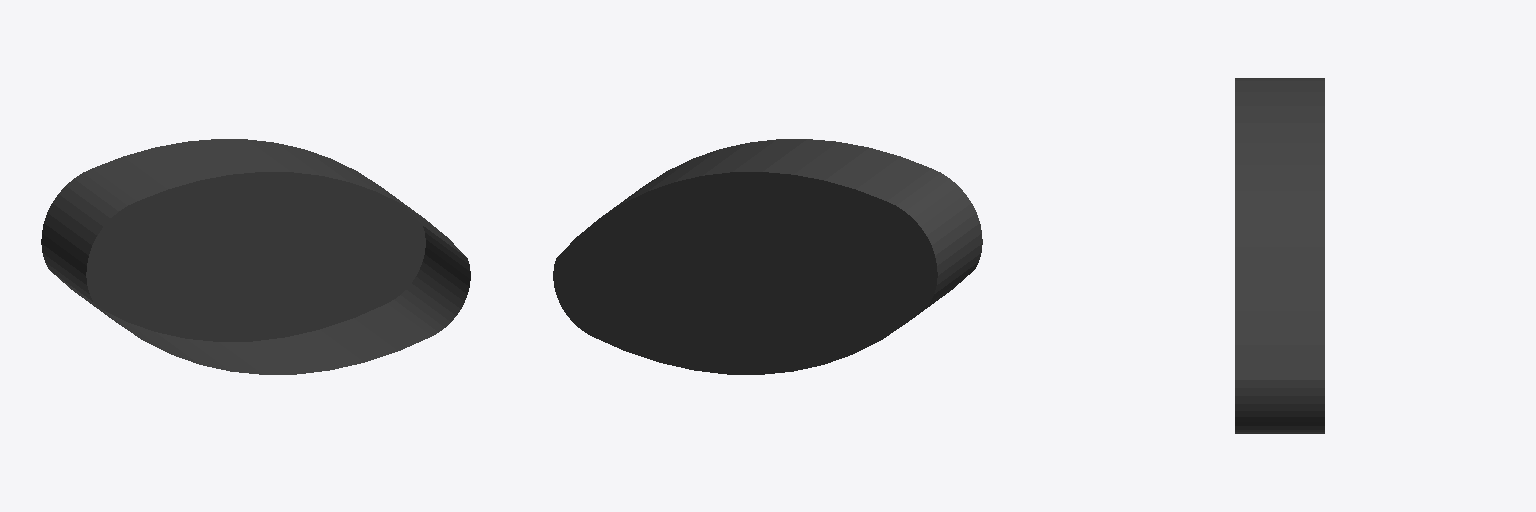
File: original-25.obj
The picture shows the model from 3 angles: view 1: azimuth 30°, elevation 25°; view 2: azimuth 150°, elevation 25°; view 3: azimuth 270°, elevation 25°; orthographic projection.
Visible parts, largest first — view 1: #ID155; view 2: #ID155; view 3: #ID155.
Part boxes in pixels (x1,y1,x2,y2): #ID155: (41, 139, 470, 374); #ID155: (553, 139, 982, 374); #ID155: (1235, 78, 1324, 433).
Size of the model in its own units: 0.1628 by 0.09 by 0.033.